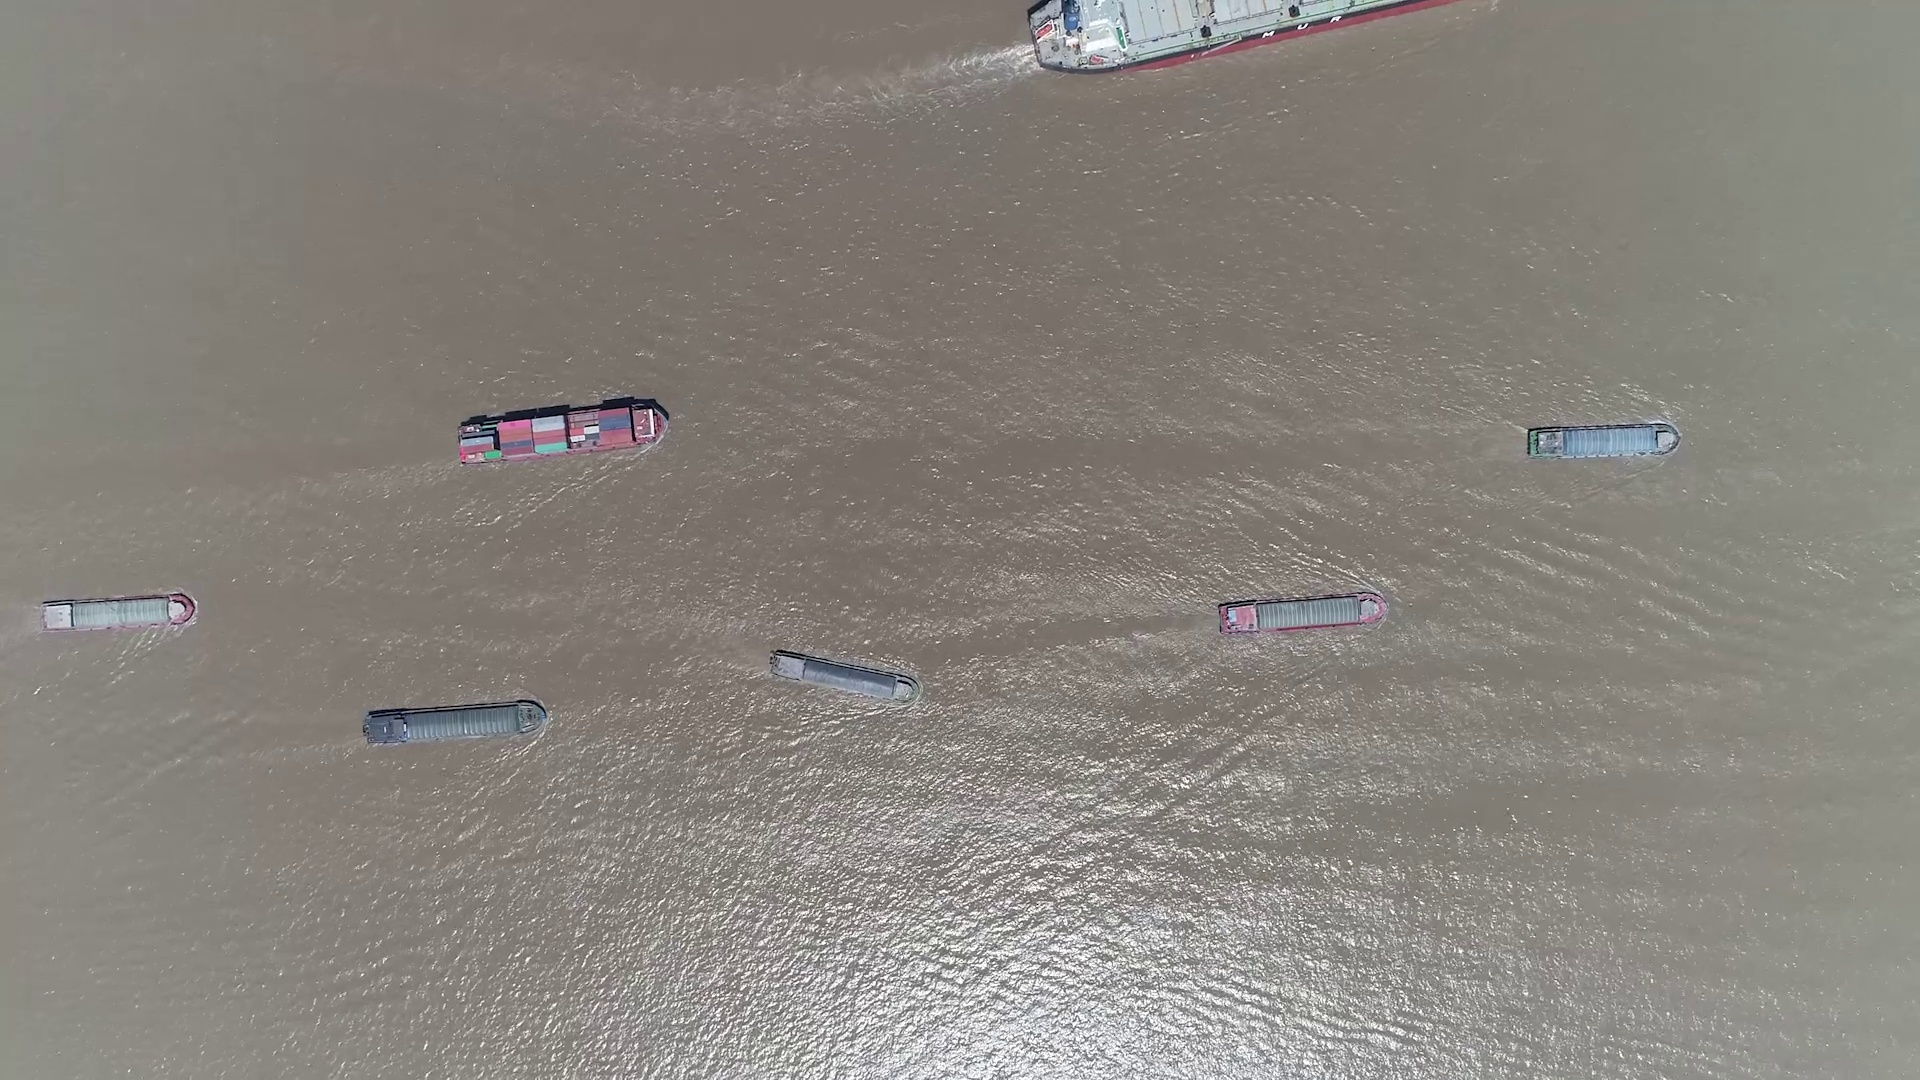ship: (1026, 3, 1455, 67), (458, 400, 669, 463), (364, 700, 547, 745), (769, 650, 916, 702), (1218, 592, 1390, 636), (37, 593, 195, 633), (1524, 423, 1677, 459)
